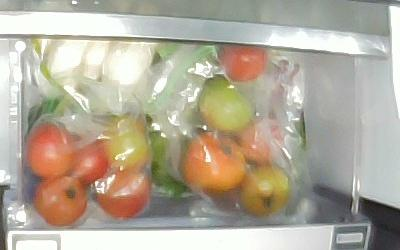tomato_vinyl: (184, 132, 246, 191), (197, 75, 252, 133), (96, 169, 150, 219), (33, 176, 87, 226), (239, 164, 289, 216), (27, 122, 73, 178), (104, 114, 149, 170), (238, 118, 282, 164), (219, 43, 267, 82), (71, 135, 107, 185)
